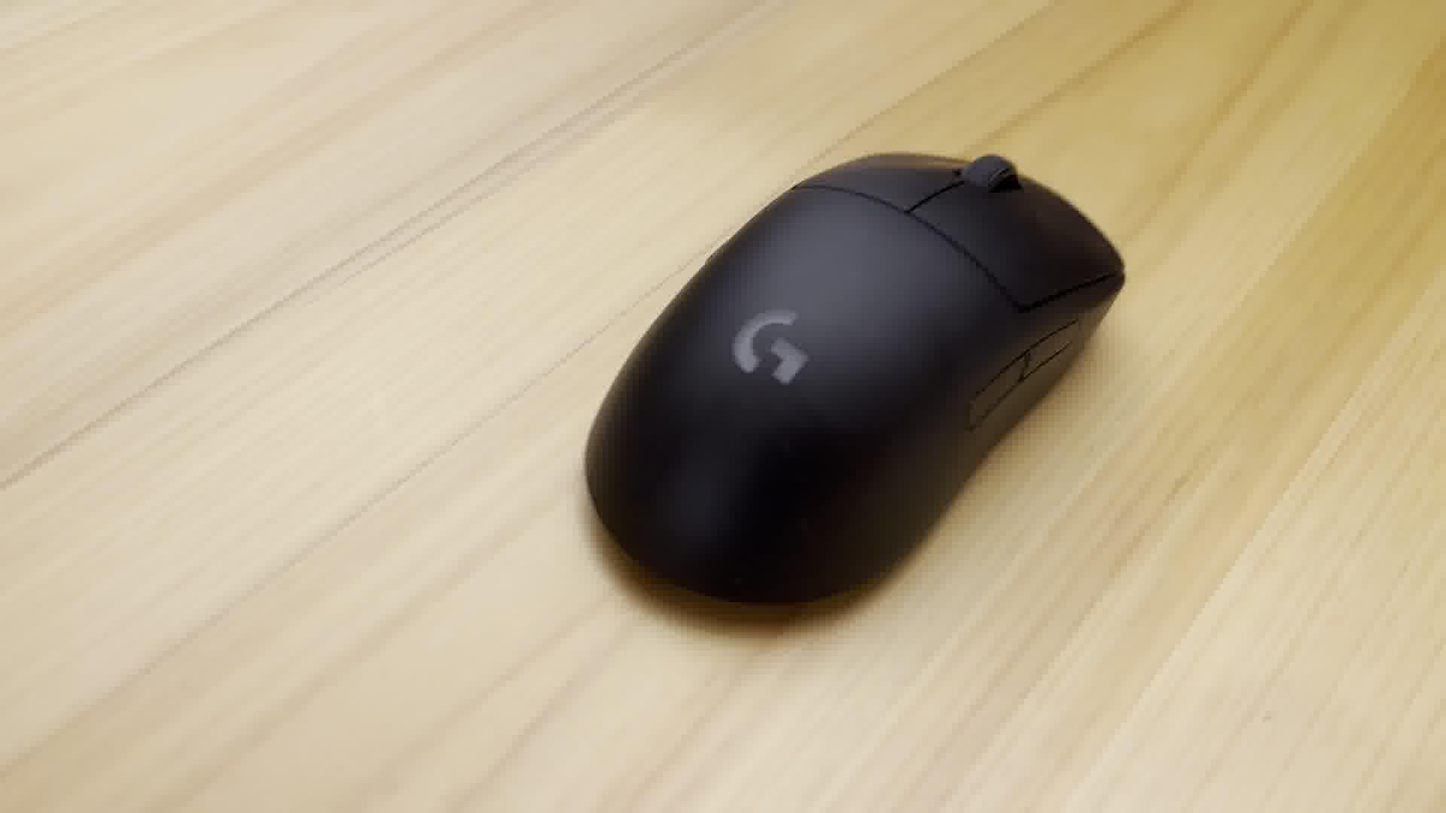mouse: (579, 140, 1132, 617)
